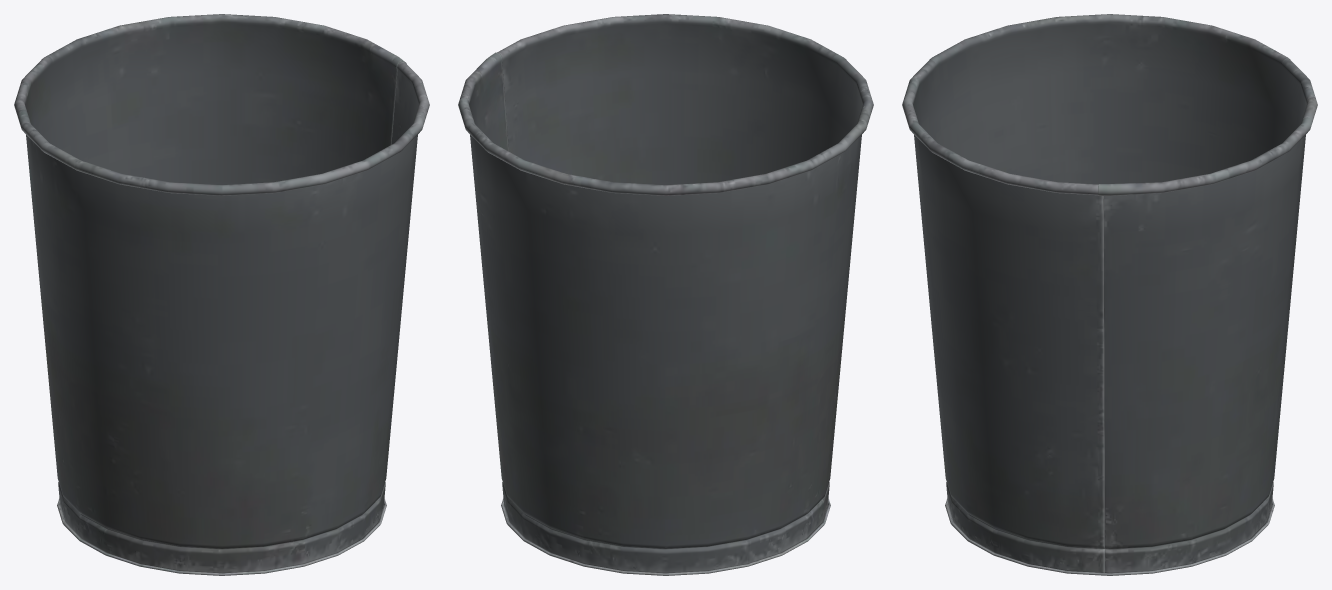
The model's file is paper_bin.glb.
3 views of the same model, side by side, from view 1: azimuth 30°, elevation 25°; view 2: azimuth 150°, elevation 25°; view 3: azimuth 270°, elevation 25° (orthographic).
Parts seen in each view (by area): view 1: Circle; view 2: Circle; view 3: Circle.
Part boxes in pixels (x1,y1,x2,y2): Circle: (14,14,429,575); Circle: (458,14,873,575); Circle: (902,14,1317,575).
Size of the model in its own units: 0.3308 by 0.3579 by 0.3312.
Materials: 1 (1 with a texture image).
